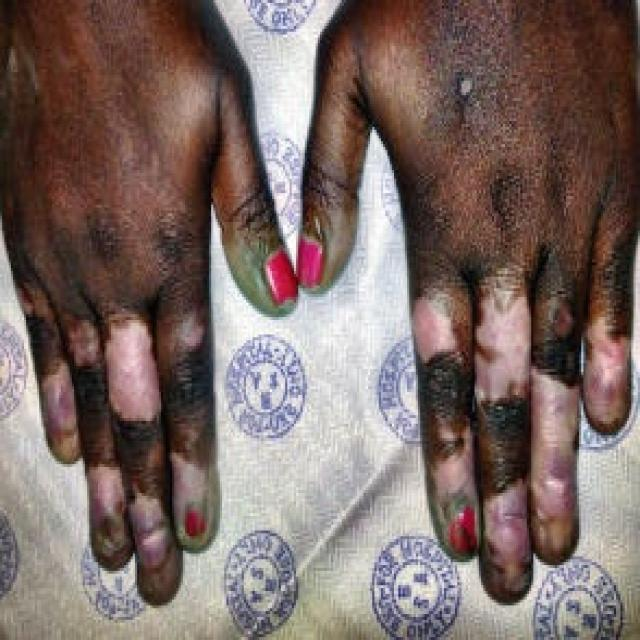Psoriasis-pictures-Lichen-Planus: (23, 211, 639, 605)
